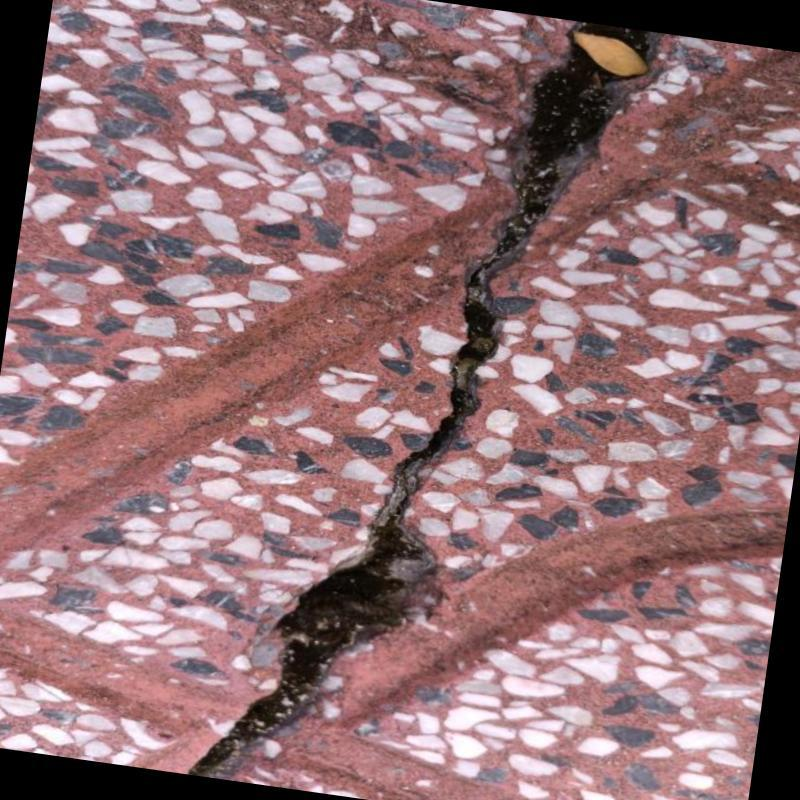crack: (186, 21, 658, 780)
